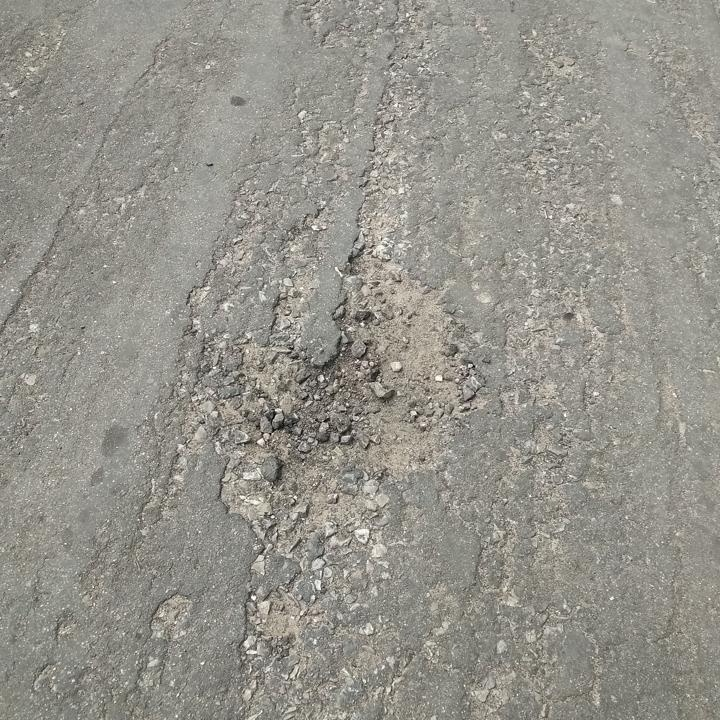pothole: (227, 244, 490, 549)
